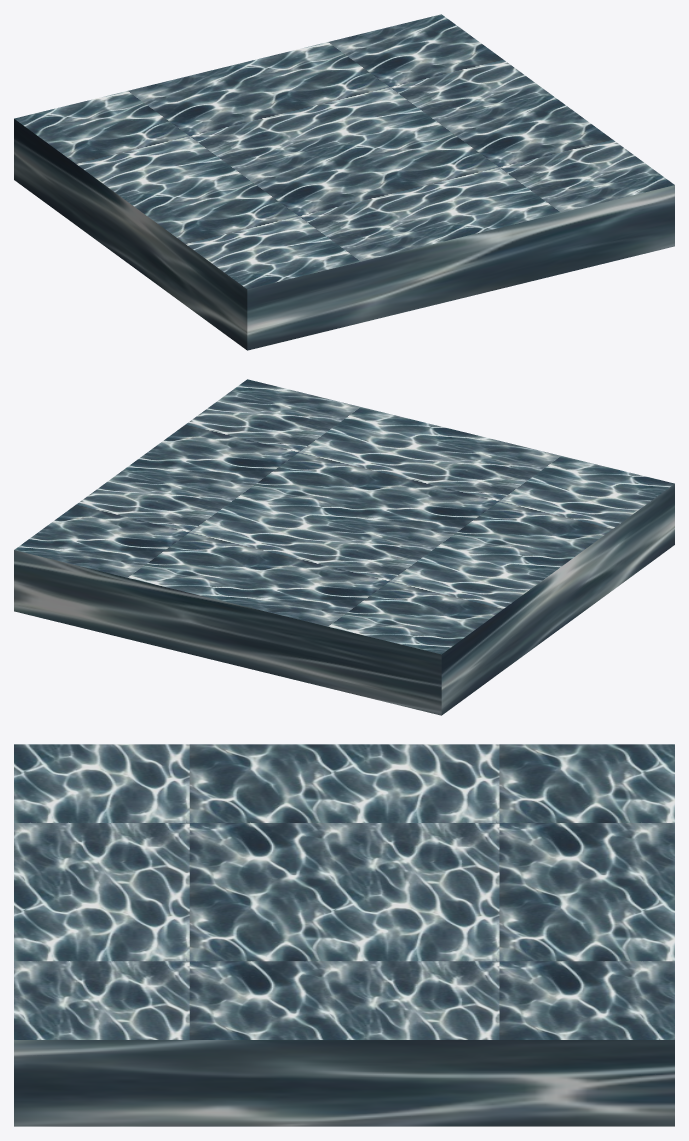
The model's file is AguaBase.obj.
3 views of the same model, one above another, from view 1: azimuth 30°, elevation 25°; view 2: azimuth 150°, elevation 25°; view 3: azimuth 270°, elevation 25° (orthographic). The views are drawn at different scales.
Visible parts, largest first — view 1: Agua fuente; view 2: Agua fuente; view 3: Agua fuente.
Boxes of the visible parts, <box> form: Agua fuente: <box>14,14,674,350</box>; Agua fuente: <box>14,379,674,715</box>; Agua fuente: <box>14,744,674,1126</box>.
Size of the model in its own units: 2.19 by 0.3 by 2.07.
Materials: 1 (1 with a texture image).
